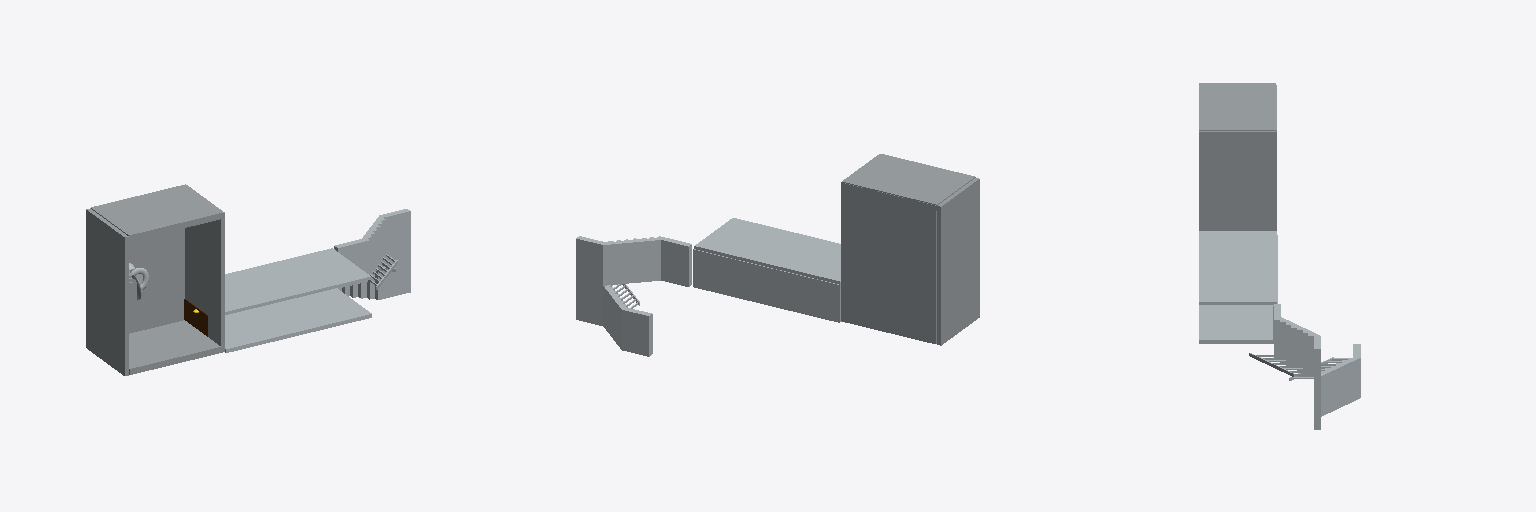
The model's file is tinker.obj.
3 renders of one model, left to right at view 1: azimuth 30°, elevation 25°; view 2: azimuth 150°, elevation 25°; view 3: azimuth 270°, elevation 25°, orthographic.
Parts seen in each view (by area): view 1: obj_0; view 2: obj_0; view 3: obj_0.
Boxes of the visible parts, box(x1,y1,x2,y2) form: obj_0: box(86, 184, 410, 375); obj_0: box(576, 154, 979, 356); obj_0: box(1199, 83, 1360, 429).
Size of the model in its own units: 477 by 241 by 194.